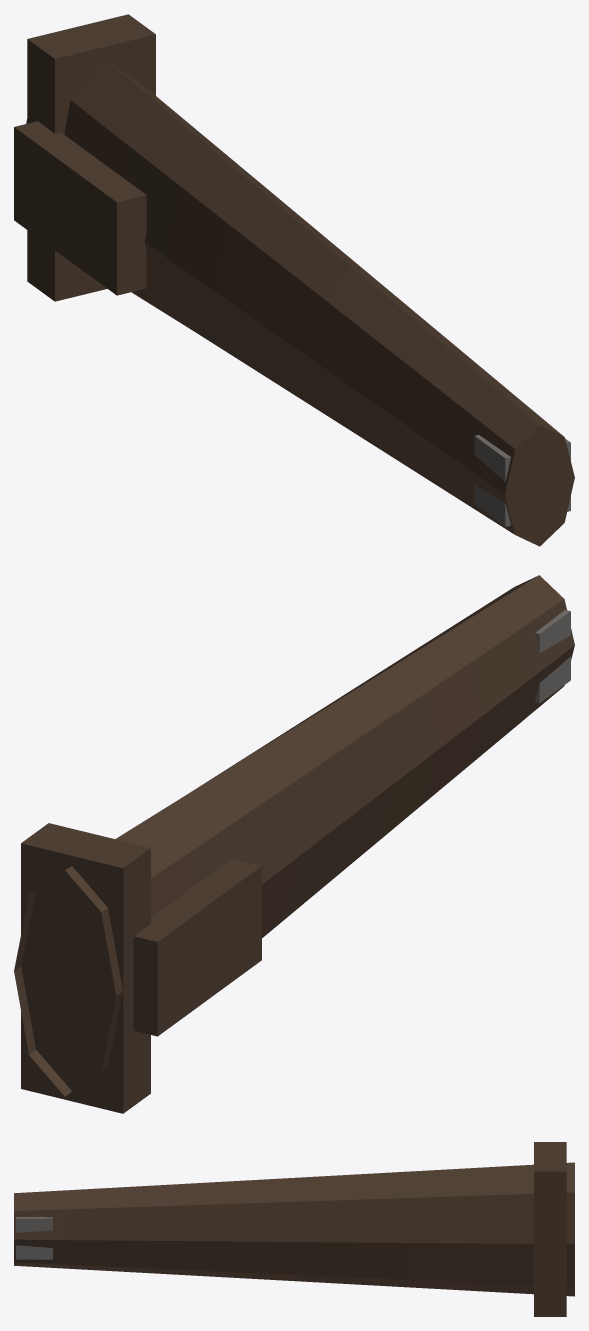
Rendered from holster_dagger.glb.
3 views of the same model, one above another, from view 1: azimuth 30°, elevation 25°; view 2: azimuth 150°, elevation 25°; view 3: azimuth 270°, elevation 25° (orthographic). The views are drawn at different scales.
Parts seen in each view (by area): view 1: holster_dagger; view 2: holster_dagger; view 3: holster_dagger.
Part boxes in pixels (x1,y1,x2,y2): holster_dagger: (14,14,574,546); holster_dagger: (14,575,574,1113); holster_dagger: (14,1142,574,1316).
Size of the model in its own units: 0.042 by 0.078 by 0.2731.
